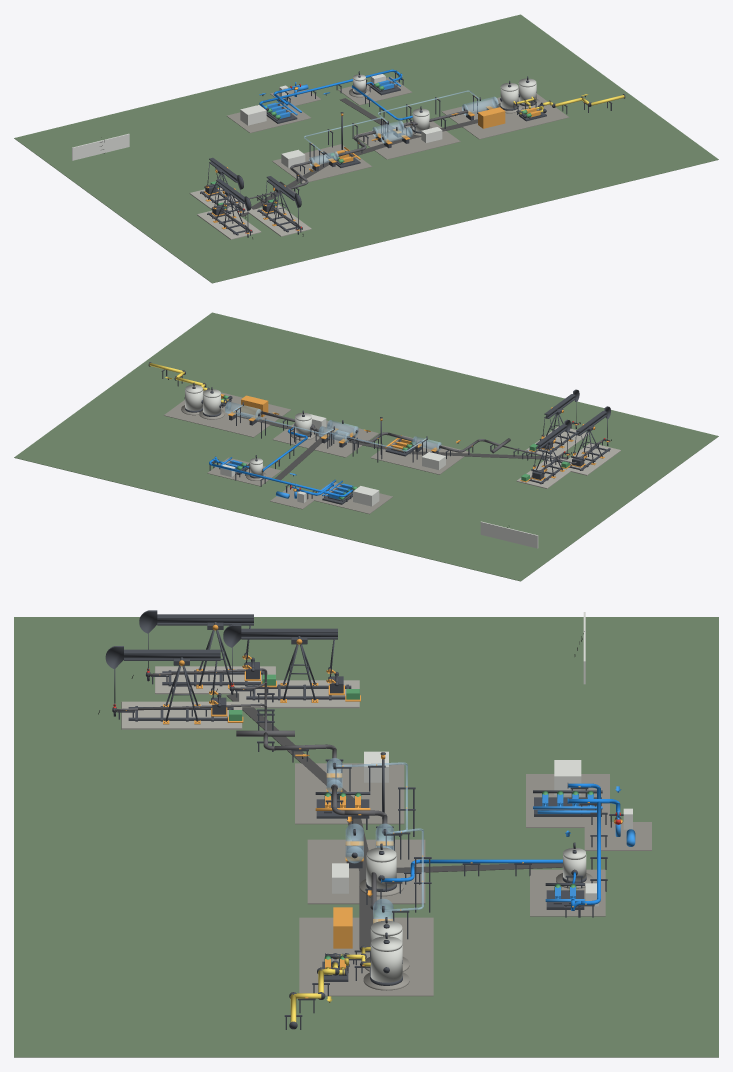
File: field_development_complex.glb
The picture shows the model from 3 angles, top to bottom: view 1: azimuth 30°, elevation 25°; view 2: azimuth 150°, elevation 25°; view 3: azimuth 270°, elevation 25°; orthographic projection. The views are drawn at different scales.
Visible parts, largest first — view 1: Field_ground, UPN_pad, UPSV_pad, DNS_pad, Legend_panel, Producing_well_2_pad, Producing_well_1_pad, BKNS_pad, KNS_pad, UPN_heater, Producing_well_3_pad, BKNS_module; view 2: Field_ground, UPN_pad, UPSV_pad, DNS_pad, Legend_panel, Producing_well_1_pad, BKNS_pad, Producing_well_3_pad, KNS_pad, Producing_well_2_pad, Road_main_wellpad_to_dns, Injection_well_pad (+2 smaller); view 3: Field_ground, UPN_pad, UPSV_pad, DNS_pad, Producing_well_2_pad, BKNS_pad, Producing_well_3_pad, KNS_pad, Producing_well_1_pad, Injection_well_pad, UPN_sales_tank_B_wall, Road_main_wellpad_to_dns (+5 smaller).
Part boxes in pixels (x1,y1,x2,y2): Field_ground: [14, 14, 718, 283]; UPN_pad: [442, 93, 569, 139]; UPSV_pad: [354, 121, 460, 159]; DNS_pad: [272, 144, 372, 183]; Legend_panel: [72, 133, 129, 160]; Producing_well_2_pad: [248, 204, 311, 236]; Producing_well_1_pad: [197, 207, 261, 239]; BKNS_pad: [227, 101, 310, 133]; KNS_pad: [338, 76, 412, 105]; UPN_heater: [478, 107, 505, 128]; Producing_well_3_pad: [189, 187, 252, 214]; BKNS_module: [240, 105, 266, 125]; Field_ground: [14, 312, 718, 581]; UPN_pad: [163, 390, 290, 437]; UPSV_pad: [272, 420, 378, 457]; DNS_pad: [370, 435, 470, 474]; Legend_panel: [480, 521, 538, 548]; Producing_well_1_pad: [557, 443, 620, 475]; BKNS_pad: [308, 482, 392, 514]; Producing_well_3_pad: [516, 457, 570, 488]; KNS_pad: [207, 457, 281, 486]; Producing_well_2_pad: [525, 426, 588, 456]; Road_main_wellpad_to_dns: [412, 451, 567, 459]; Injection_well_pad: [270, 487, 319, 509]; Field_ground: [14, 617, 718, 1057]; UPN_pad: [299, 917, 433, 996]; UPSV_pad: [307, 839, 425, 904]; DNS_pad: [295, 763, 404, 824]; Producing_well_2_pad: [121, 701, 242, 729]; BKNS_pad: [526, 774, 609, 827]; Producing_well_3_pad: [239, 680, 359, 708]; KNS_pad: [530, 869, 605, 916]; Producing_well_1_pad: [155, 666, 275, 694]; Injection_well_pad: [584, 822, 651, 850]; UPN_sales_tank_B_wall: [370, 944, 402, 982]; Road_main_wellpad_to_dns: [226, 693, 354, 799].
Bounding box in the file's own units: 62 × 4.63 × 42.
